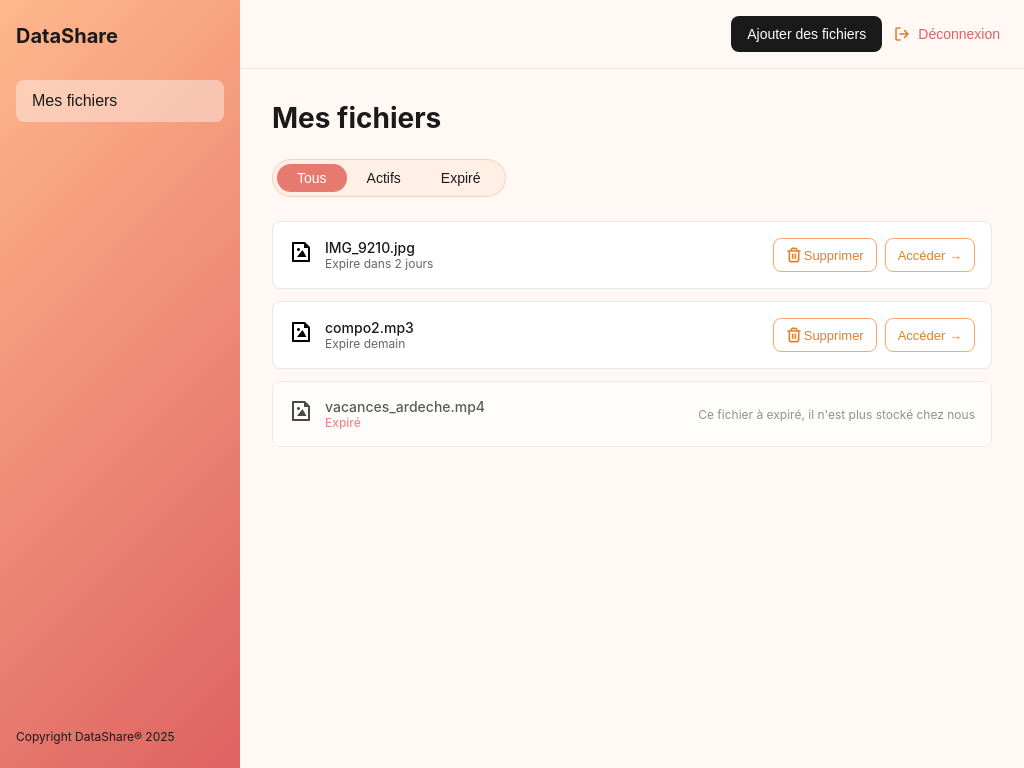
Test: Dashboard › should filter active files
The width and height of the screenshot is (1024, 768).
Step 1. Click the button "Actifs" → click(384, 178), box [347,164,421,192]
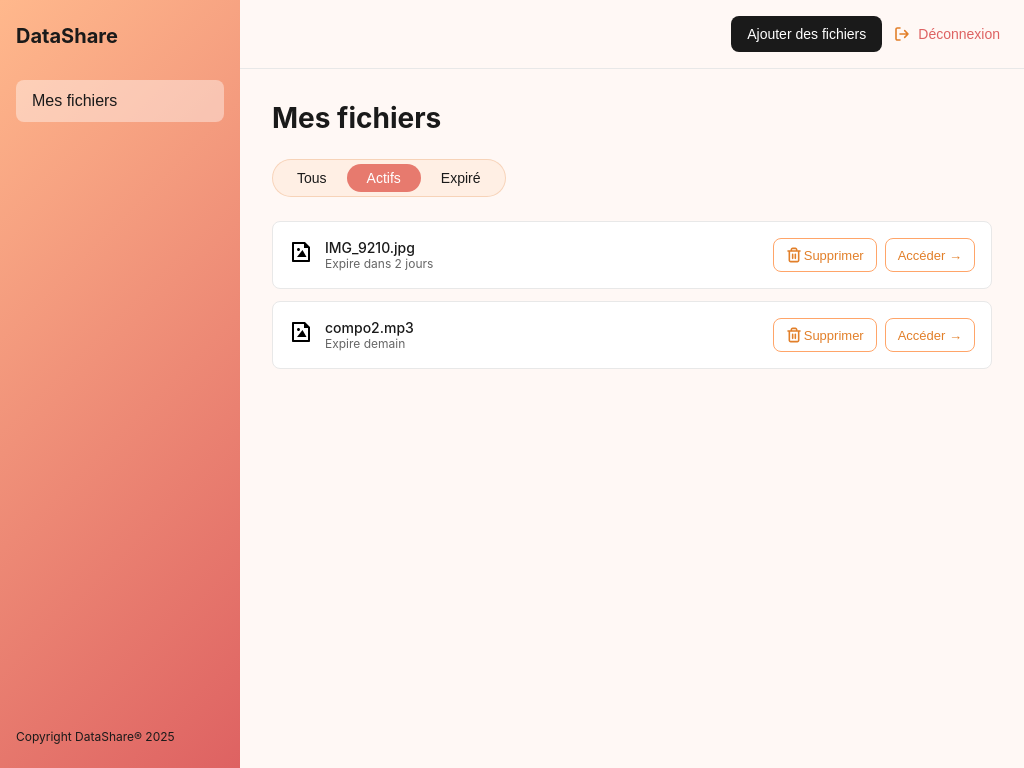
Now the number of list items with class "dashboard__item" is 2, box [272,221,992,289]; [272,301,992,369]
